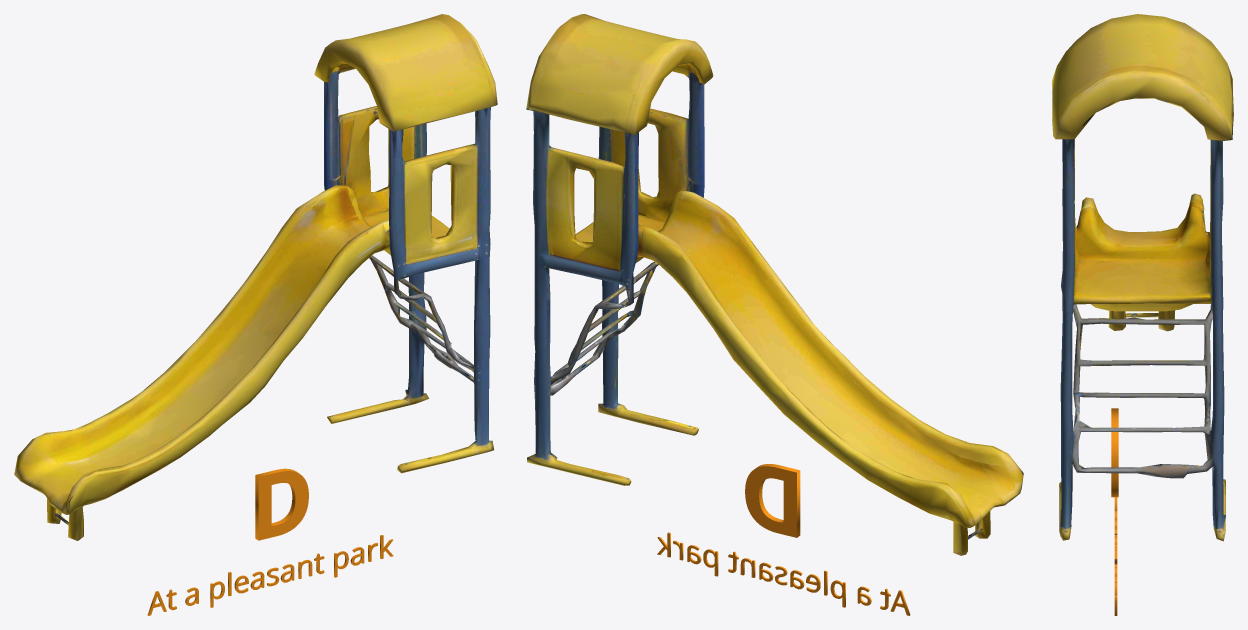
Rendered from D_park.glb.
3 renders of one model, left to right at view 1: azimuth 30°, elevation 25°; view 2: azimuth 150°, elevation 25°; view 3: azimuth 270°, elevation 25°, orthographic. The views are drawn at different scales.
Parts seen in each view (by area): view 1: D_park; view 2: D_park; view 3: D_park.
Boxes of the visible parts, left/top/right/bottom form: D_park: left=14, top=14, right=497, bottom=615; D_park: left=526, top=14, right=1023, bottom=615; D_park: left=1052, top=14, right=1233, bottom=615.
Size of the model in its own units: 1.12 by 1.31 by 0.3616.
Materials: 2 (1 with a texture image).
